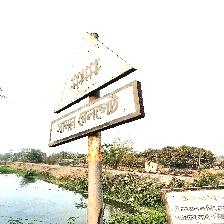Rail-crossing: (48, 33, 144, 148)
